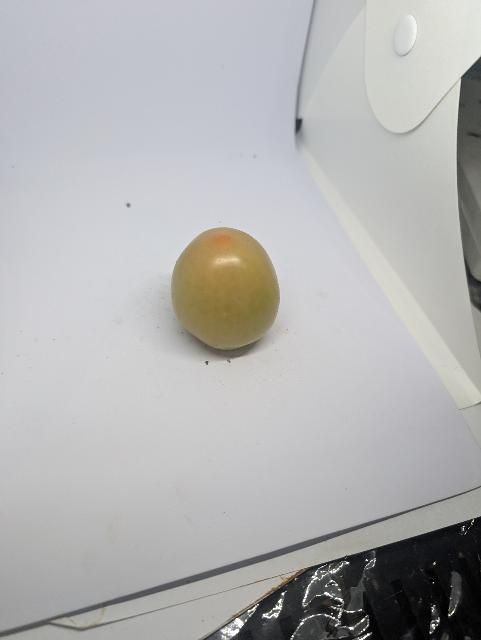turning: (171, 228, 280, 350)
